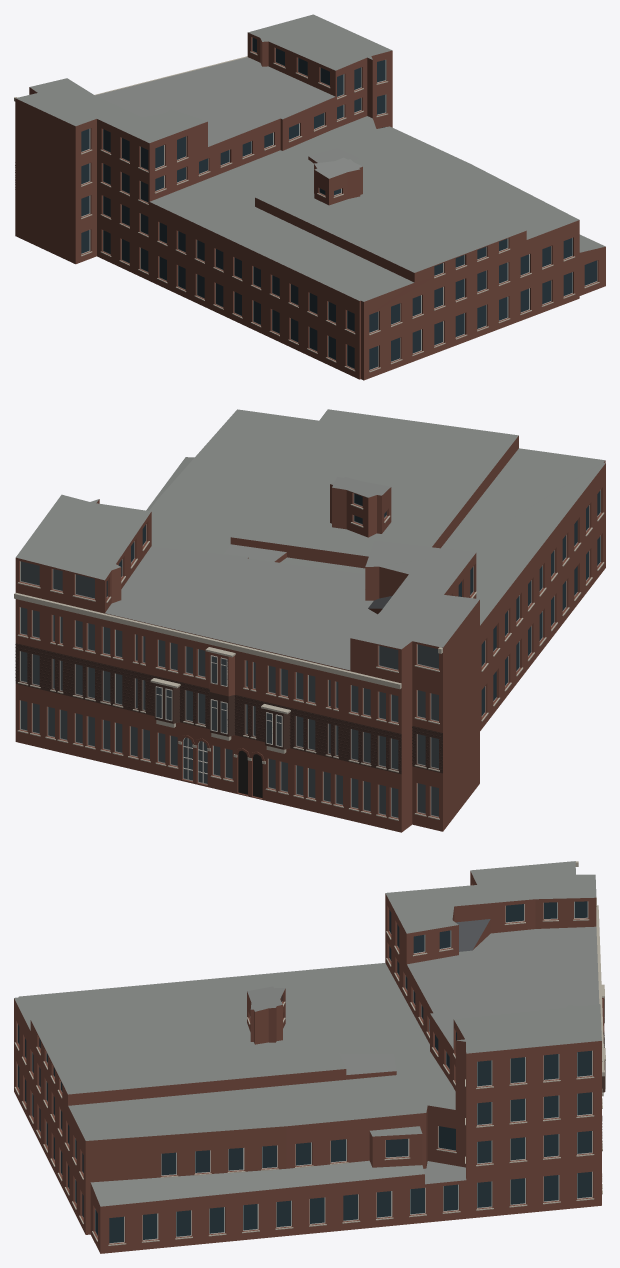
Rendered from recipe-large-haarlemmerweg-315-135676.glb.
3 views of the same model, one above another, from view 1: azimuth 30°, elevation 25°; view 2: azimuth 150°, elevation 25°; view 3: azimuth 270°, elevation 25° (orthographic). The views are drawn at different scales.
Visible parts, largest first — view 1: haarlemmerweg-315-135676; view 2: haarlemmerweg-315-135676; view 3: haarlemmerweg-315-135676.
Boxes of the visible parts, x1,y1,x2,y2 form: haarlemmerweg-315-135676: (14,14,605,380); haarlemmerweg-315-135676: (14,409,605,832); haarlemmerweg-315-135676: (14,861,605,1253).
Size of the model in its own units: 50.23 by 16.94 by 55.05.
